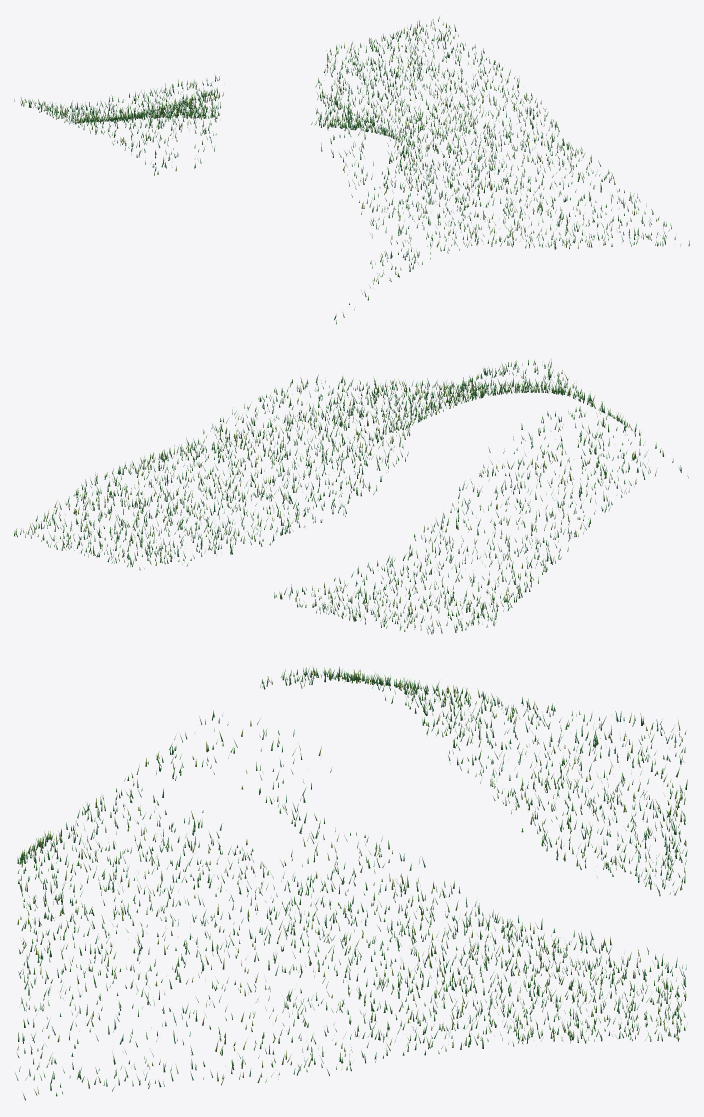
The picture shows the model from 3 angles, top to bottom: view 1: azimuth 30°, elevation 25°; view 2: azimuth 150°, elevation 25°; view 3: azimuth 270°, elevation 25°; orthographic projection. The views are drawn at different scales.
Parts seen in each view (by area): view 1: gc_24; view 2: gc_24; view 3: gc_24.
Part boxes in pixels (x1,y1,x2,y2): gc_24: (14, 16, 689, 324); gc_24: (14, 359, 688, 634); gc_24: (15, 667, 687, 1100).
Size of the model in its own units: 18.17 by 6.12 by 18.21.
Materials: 1 (1 with a texture image).
